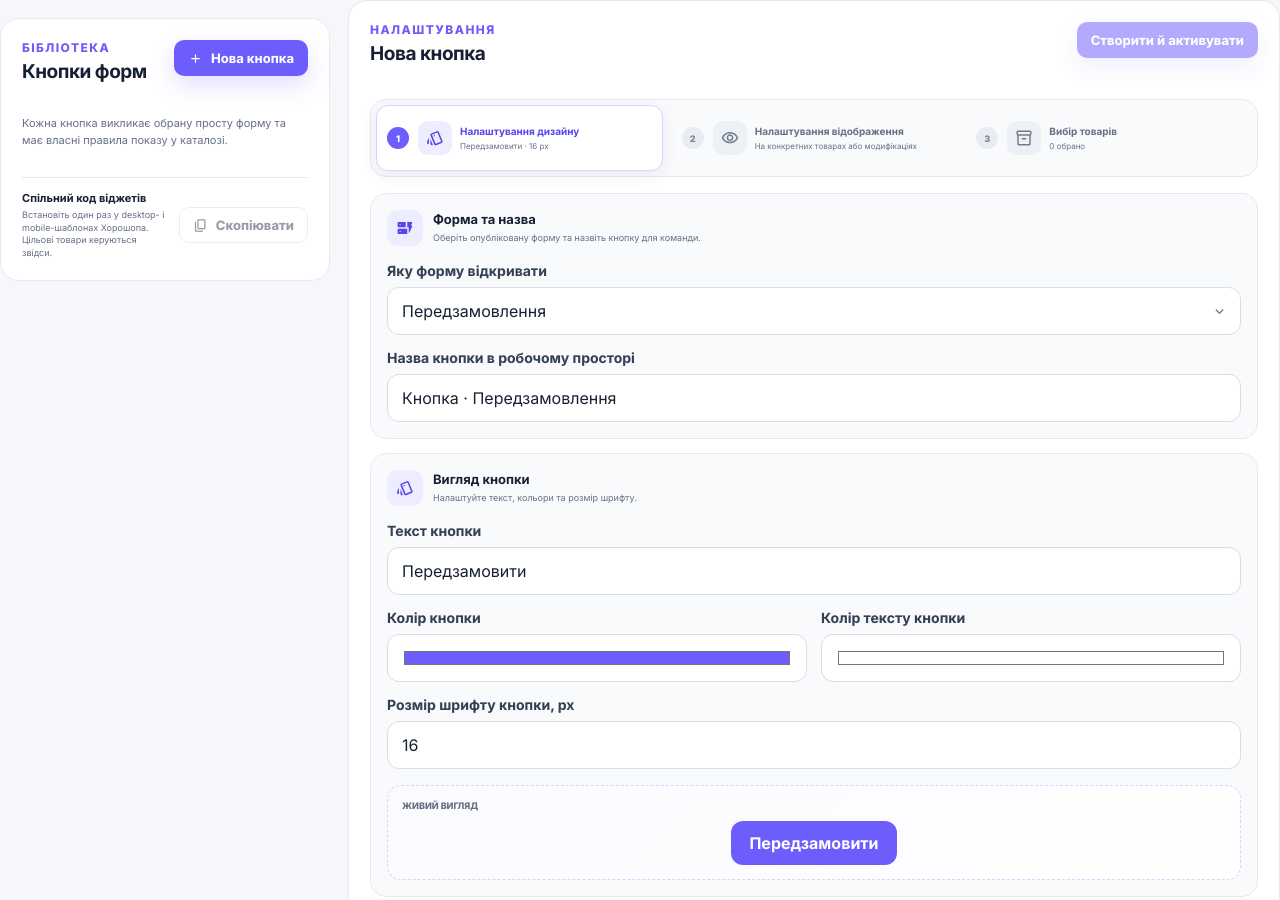
Test: ApplicationFormPlacementEditor product tree › shows the full tree only for multi-modification products
Click the tab "3 Вибір товарів 0 обрано": click(1109, 138) top-left (965, 105), bottom-right (1252, 171)
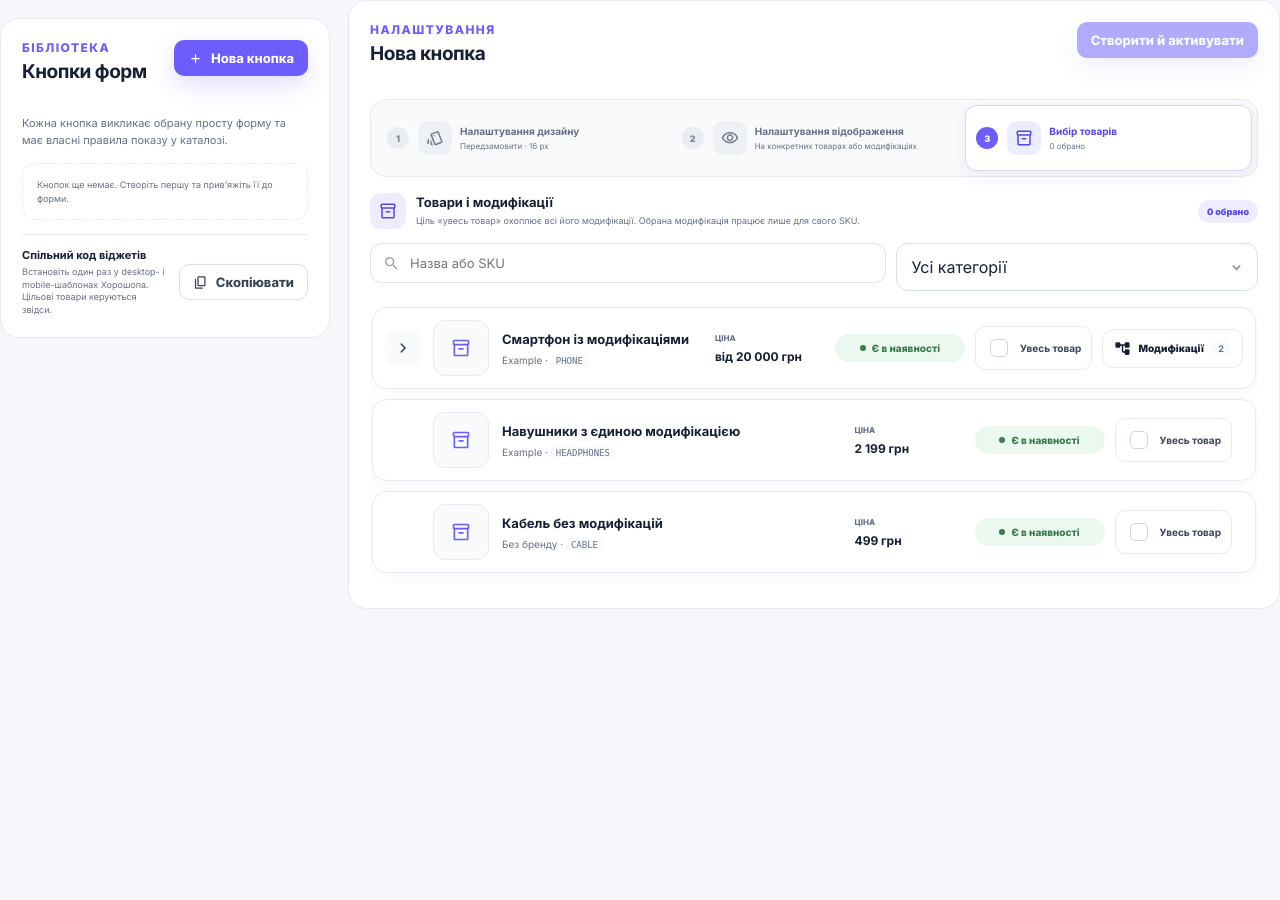
Expected: the list item "Смартфон із модифікаціями" is shown, top-left (502, 331), bottom-right (689, 347)
Expected: the list item "Навушники з єдиною модифікацією" is shown, top-left (502, 423), bottom-right (740, 439)
Expected: the list item "Кабель без модифікацій" is shown, top-left (502, 515), bottom-right (663, 531)
Click the button named "Розгорнути модифікації Смартфон із модифікаціями": click(403, 348) top-left (385, 330), bottom-right (421, 366)
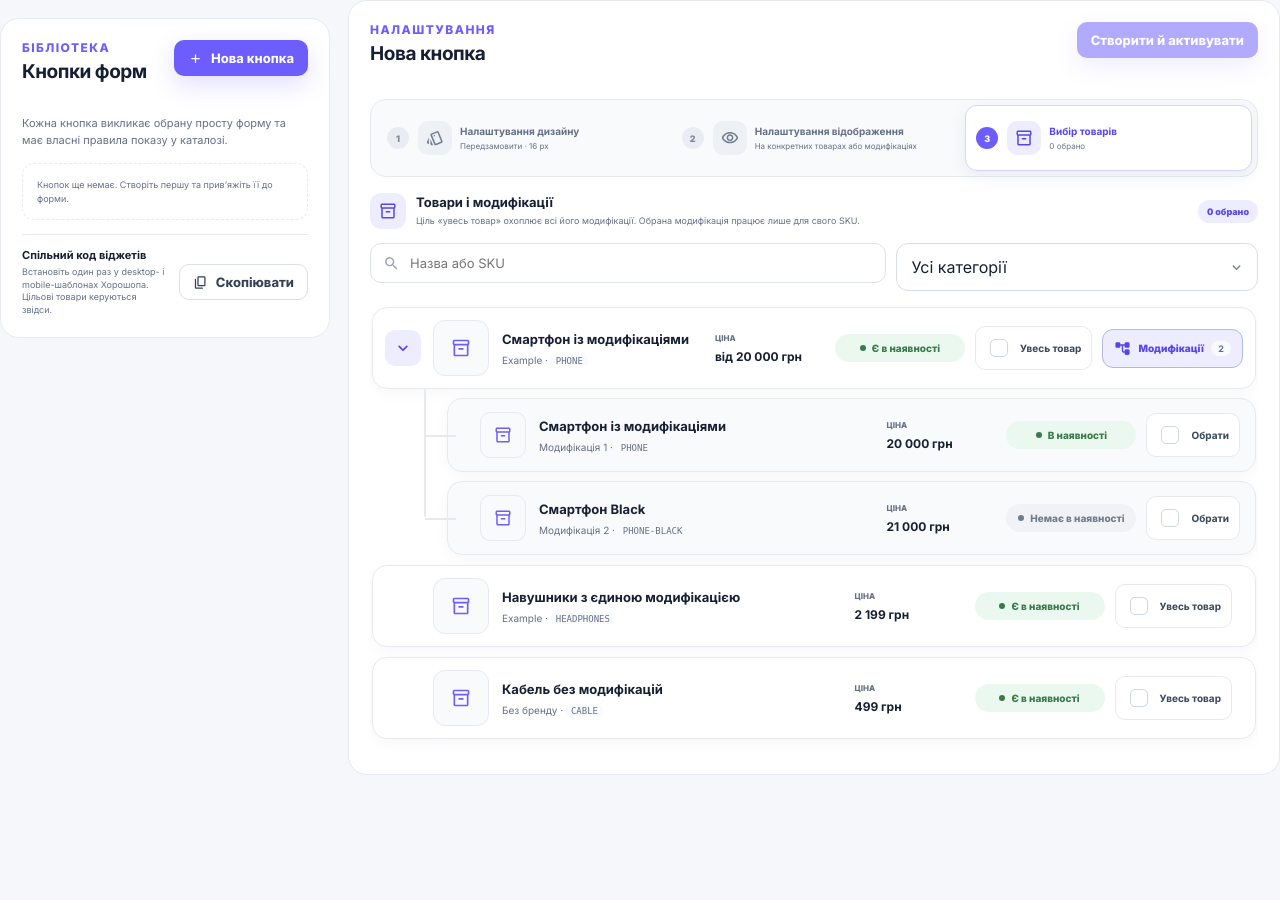
Expected: the text "Смартфон Black" is shown, top-left (539, 501), bottom-right (645, 517)
Expected: the text "Смартфон із модифікаціями" is shown 2 times, top-left (502, 330), bottom-right (689, 348); top-left (539, 417), bottom-right (726, 435)
Expected: the element that starts with "Смартфон із модифікаціями" is shown, top-left (424, 398), bottom-right (1256, 555)
